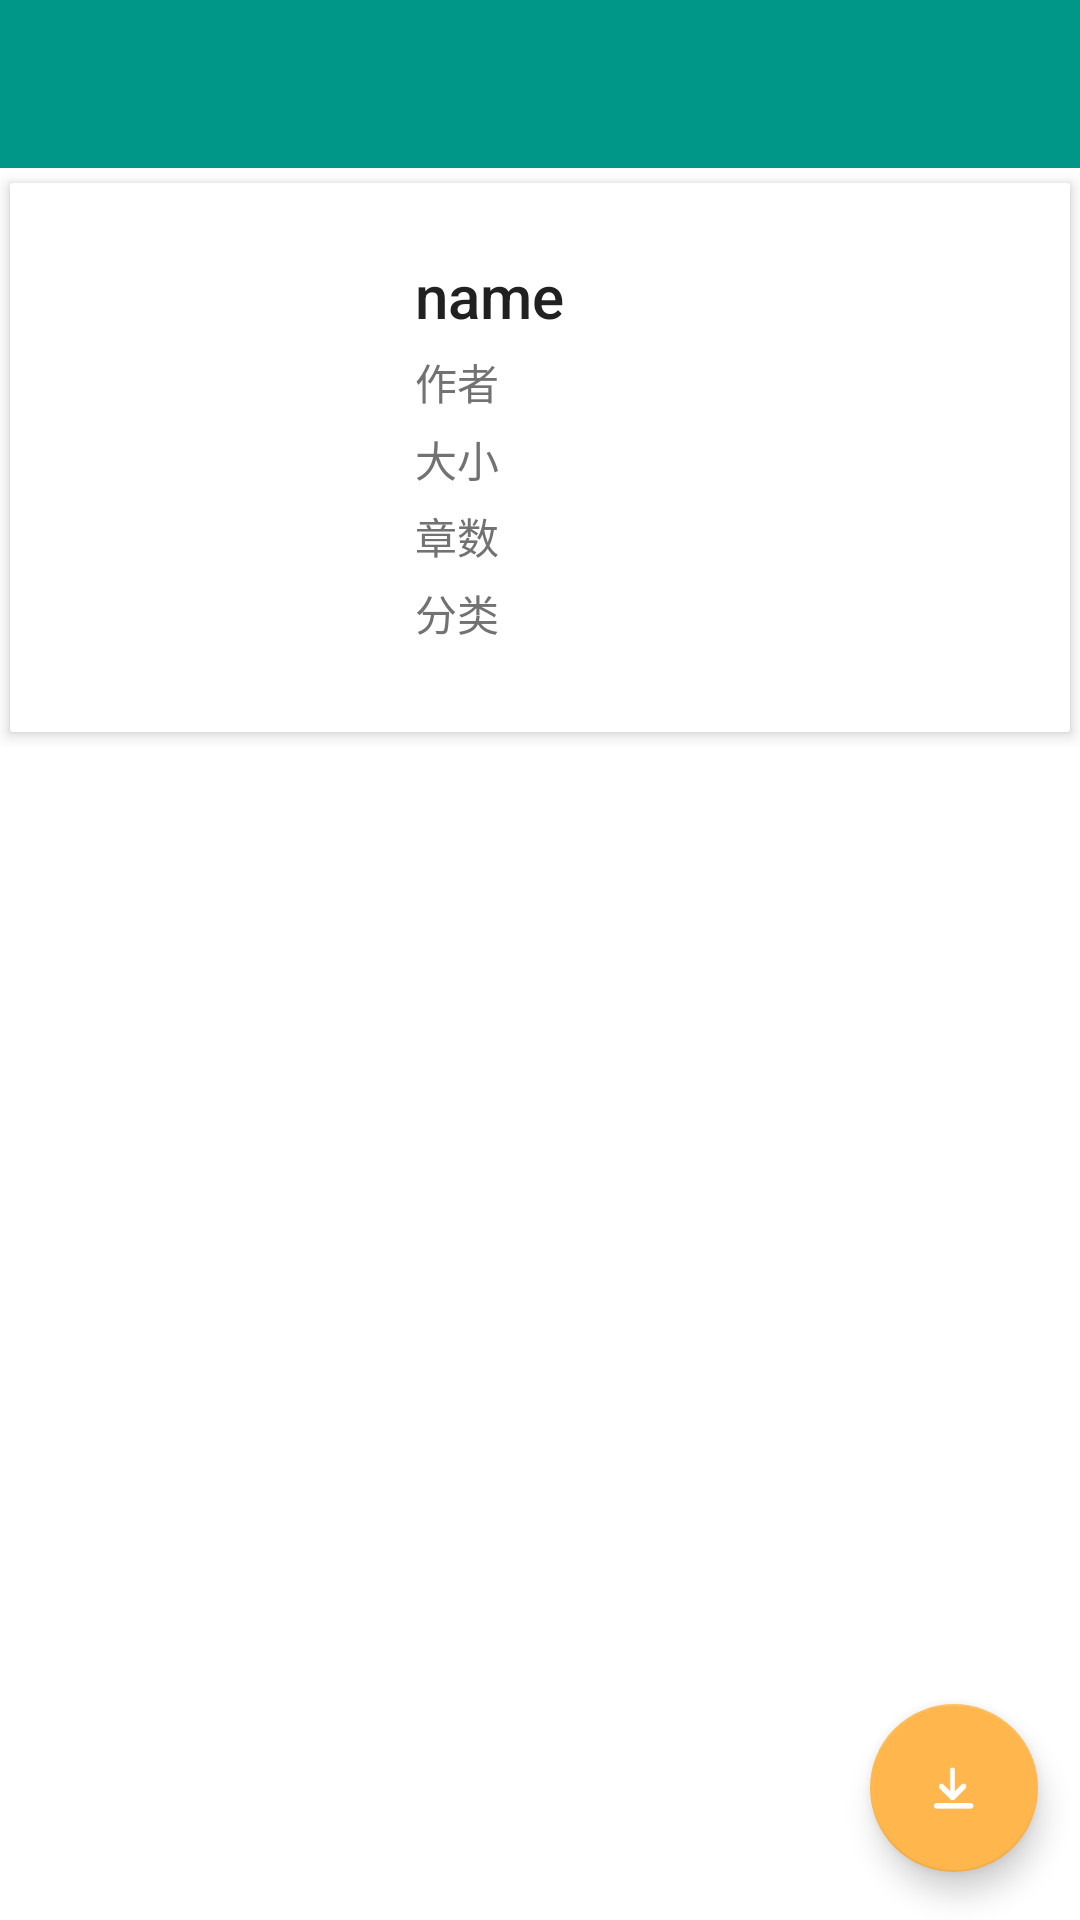

Icon bounding boxes for this 1080×1920 phone screenshot, format detection(x1, y1, x2, y2):
dow: detection(870, 1704, 1038, 1872)
